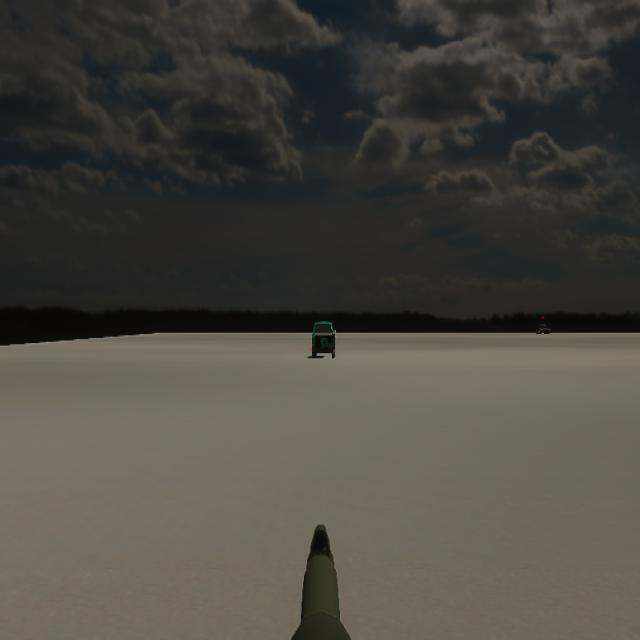green_car: (306, 320, 336, 360)
